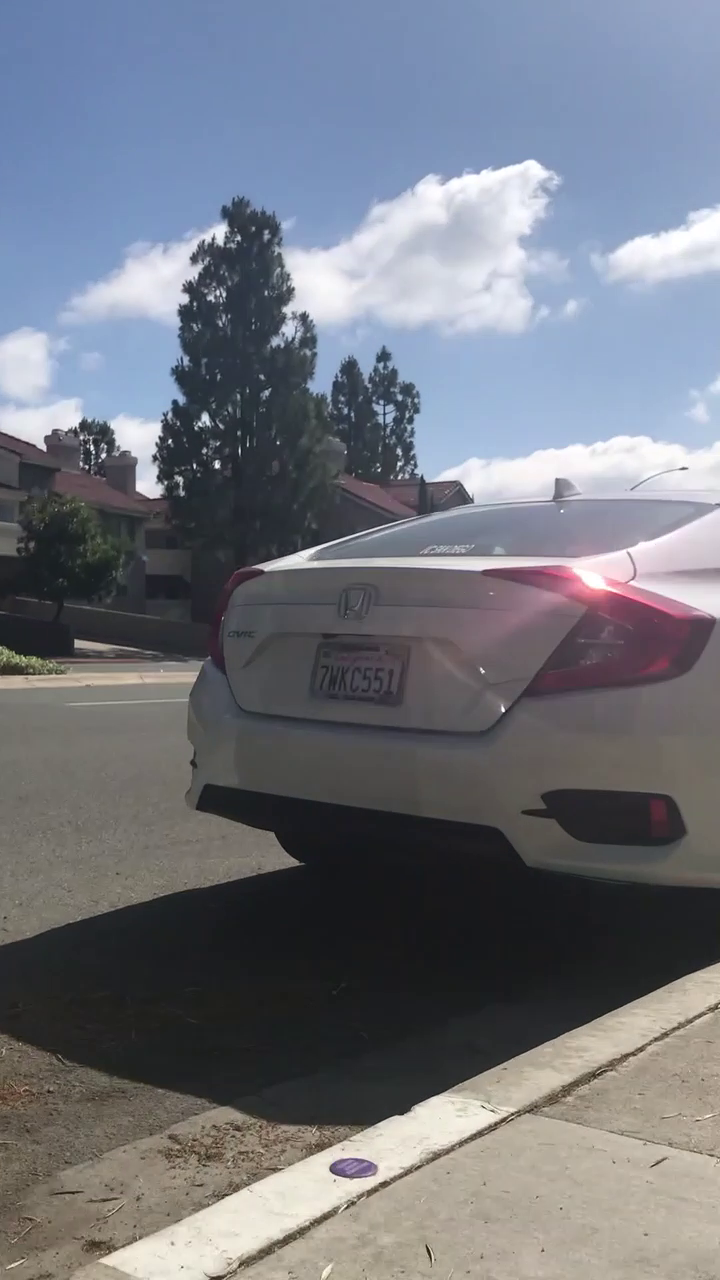car: (177, 471, 720, 941)
